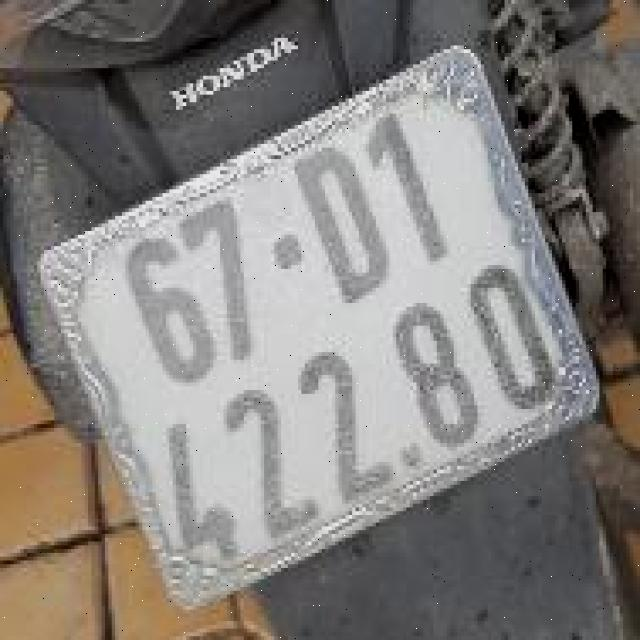0: (464, 260, 562, 433)
1: (366, 104, 450, 263)
2: (216, 382, 312, 546), (306, 350, 394, 517)
4: (134, 407, 252, 574)
6: (110, 218, 218, 392)
7: (184, 184, 280, 380)
8: (398, 301, 482, 468)
D: (296, 125, 391, 314)
